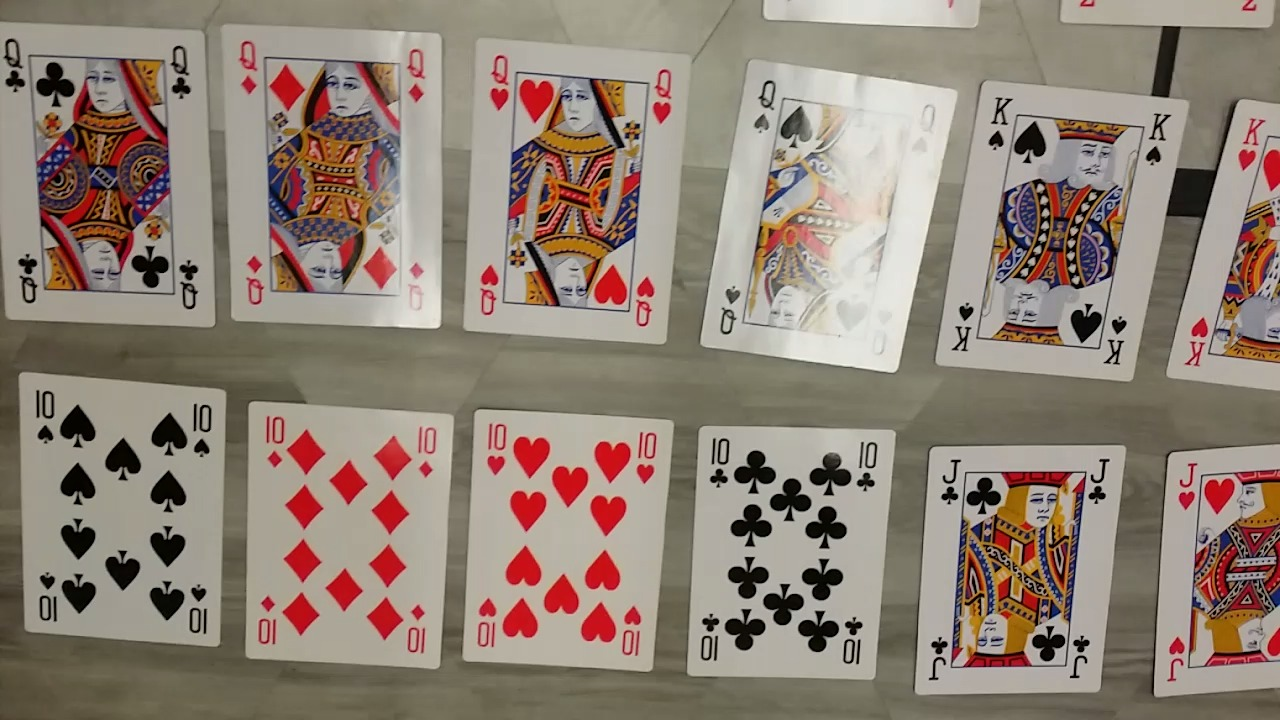10_club: (685, 423, 901, 683)
10_diamond: (243, 397, 456, 668)
10_heart: (461, 406, 670, 672)
10_spade: (15, 369, 223, 649)
jack_club: (918, 436, 1112, 702)
jack_heart: (1146, 447, 1280, 700)
king_spade: (934, 77, 1174, 377)
queen_club: (0, 18, 214, 325)
queen_diamond: (218, 23, 445, 329)
queen_heart: (457, 34, 693, 348)
queen_spade: (700, 57, 958, 368)
